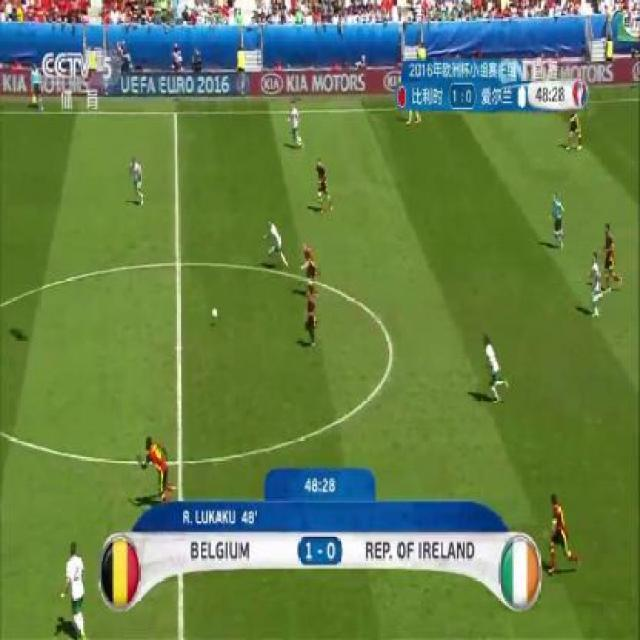ball: (206, 304, 221, 324)
player: (56, 539, 96, 640), (540, 489, 583, 577), (471, 327, 519, 404), (133, 435, 179, 500), (598, 218, 626, 293), (310, 151, 340, 219), (126, 153, 157, 216), (257, 212, 288, 272), (583, 248, 606, 325), (299, 286, 321, 347), (297, 236, 322, 285), (285, 99, 305, 150)
